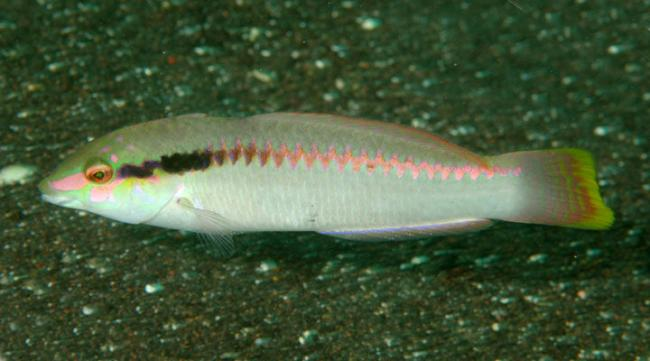fish: (37, 110, 615, 254)
